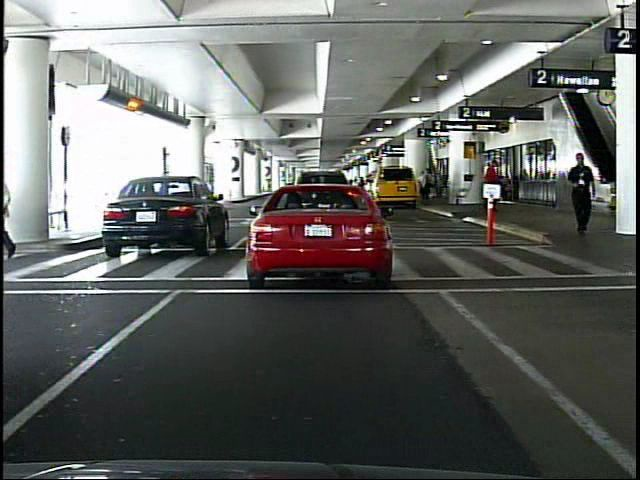person: (567, 151, 596, 238), (2, 173, 17, 259), (480, 160, 503, 215), (418, 166, 431, 202)
